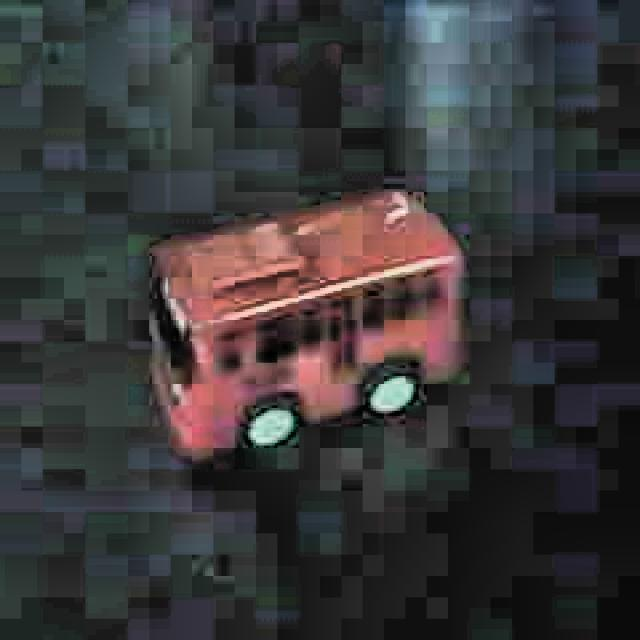bus: (138, 184, 464, 466)
